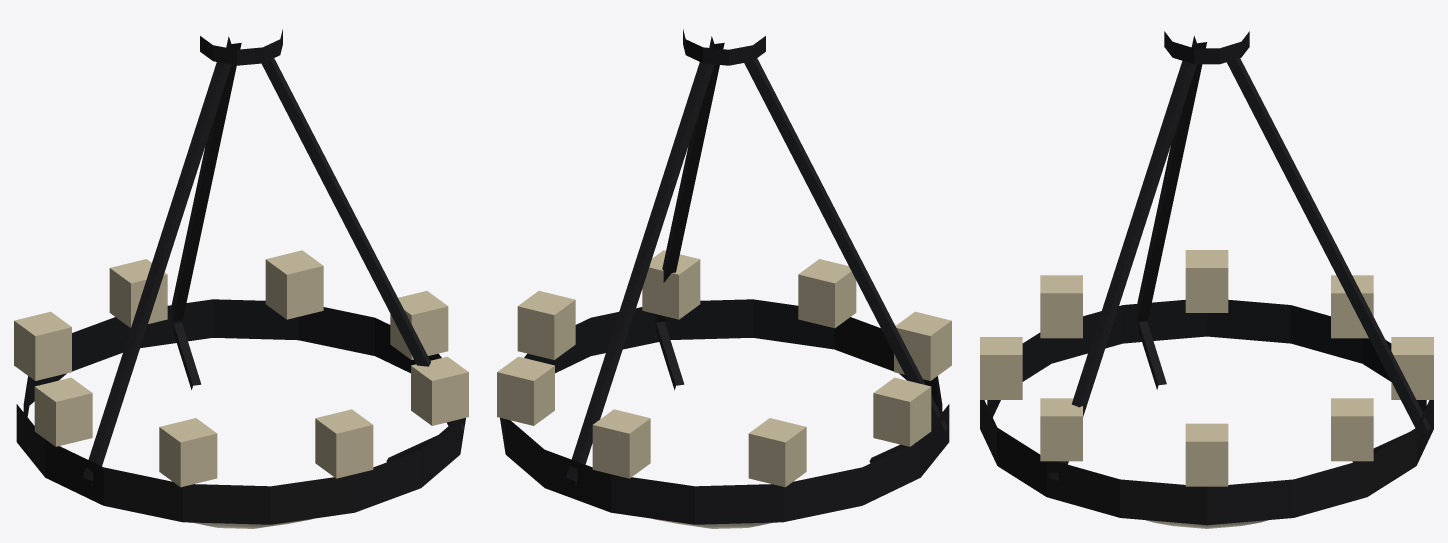
File: lamp.chandelier_bowl.iron.glb
3 views of the same model, side by side, from view 1: azimuth 30°, elevation 25°; view 2: azimuth 150°, elevation 25°; view 3: azimuth 270°, elevation 25° (orthographic).
Visible parts, largest first — view 1: lamp_chandelier_bowl_iron; view 2: lamp_chandelier_bowl_iron; view 3: lamp_chandelier_bowl_iron.
Part boxes in pixels (x1=…): lamp_chandelier_bowl_iron: x1=14, y1=29, x2=468, y2=528; lamp_chandelier_bowl_iron: x1=497, y1=29, x2=951, y2=528; lamp_chandelier_bowl_iron: x1=980, y1=31, x2=1433, y2=528.
Size of what is drawn, in the model's own units: 1.28 by 1.46 by 1.28.
